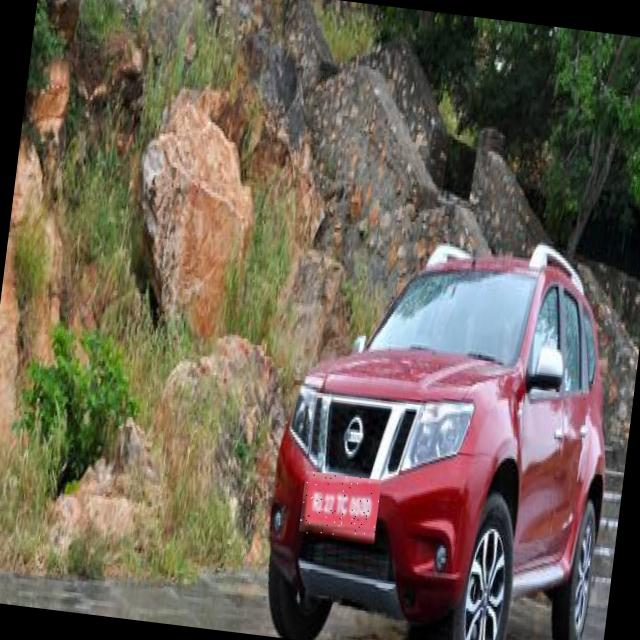Plate: (299, 472, 382, 543)
